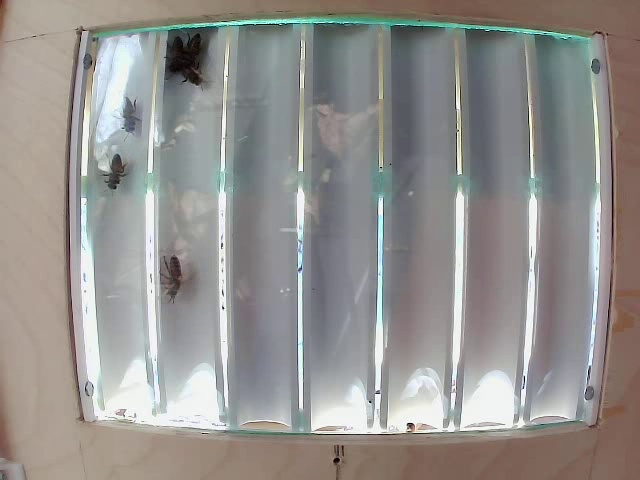bee: (146, 242, 198, 301), (110, 94, 160, 148), (94, 143, 142, 196), (162, 33, 209, 84)
